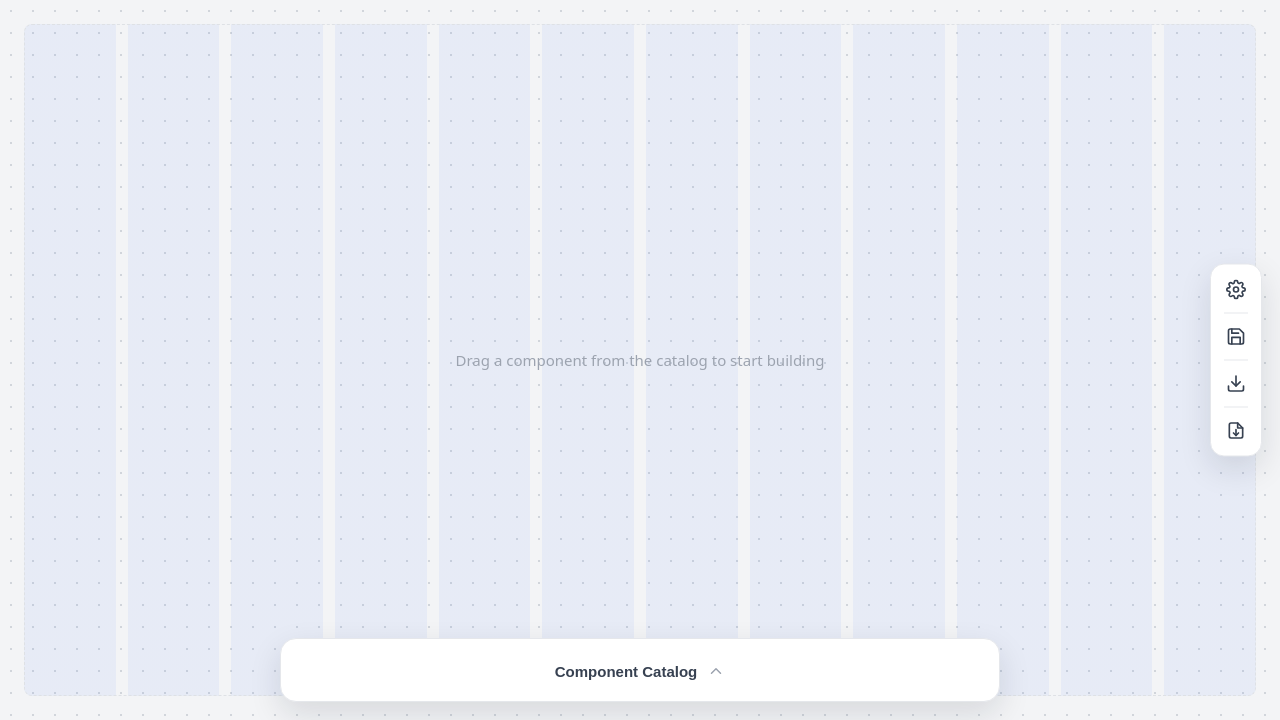
Test: MainPage › should save a dashboard and list it in the load dialog
Click the button named "Save dashboard": (1236, 336) [1217,318,1255,356]
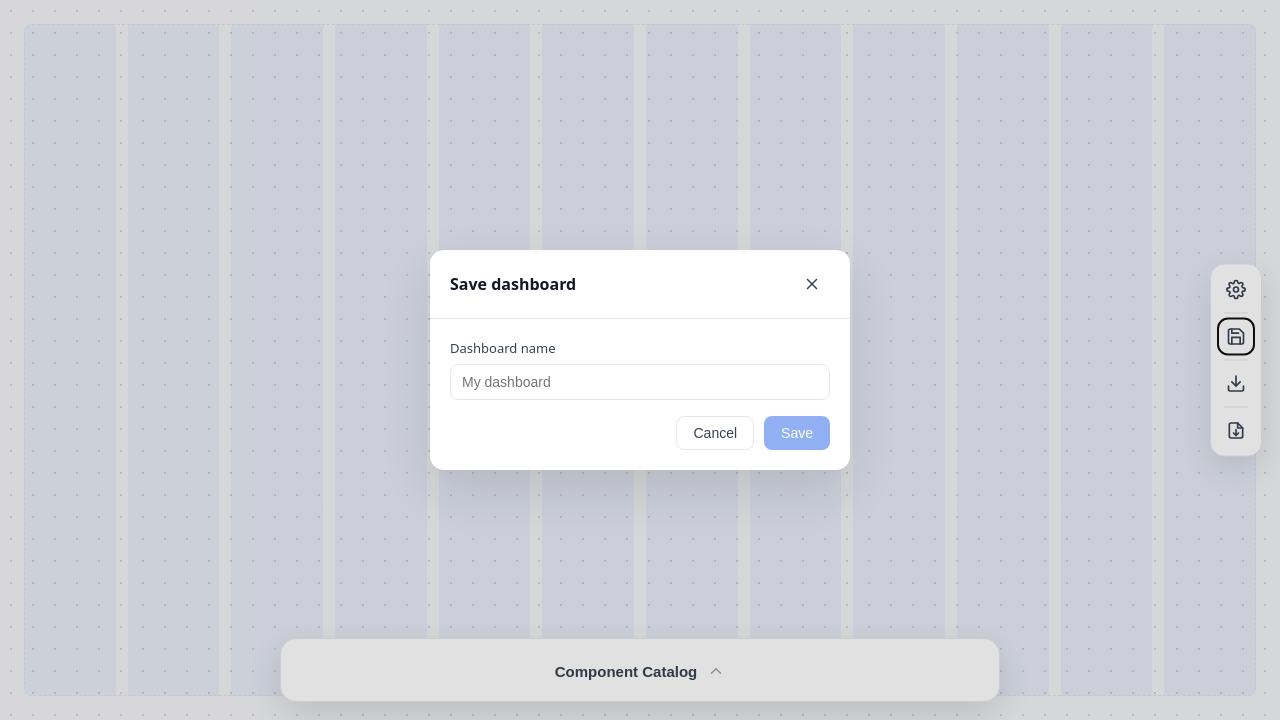
In the field labelled "Dashboard name": (640, 382) [450,364,830,400], type "Sales"
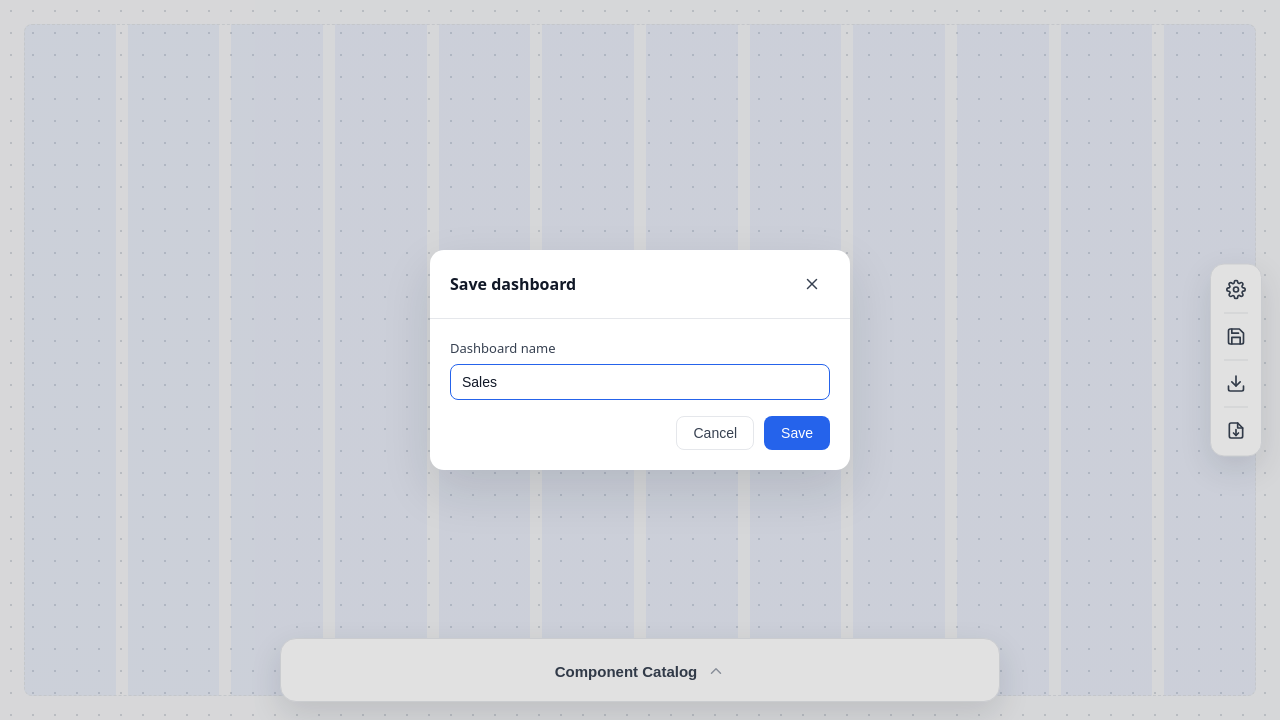
Click the button "Save": (797, 433) [764,416,830,450]
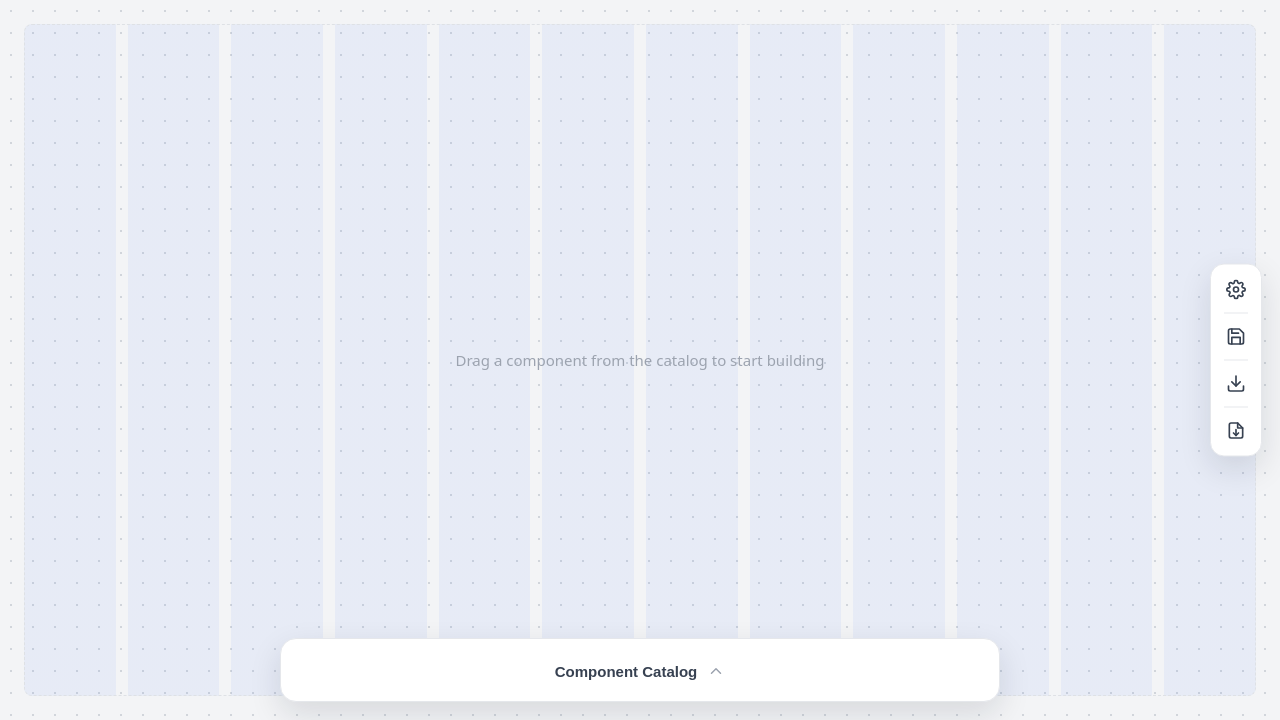
Click the button named "Load dashboard": (1236, 384) [1217,364,1255,402]
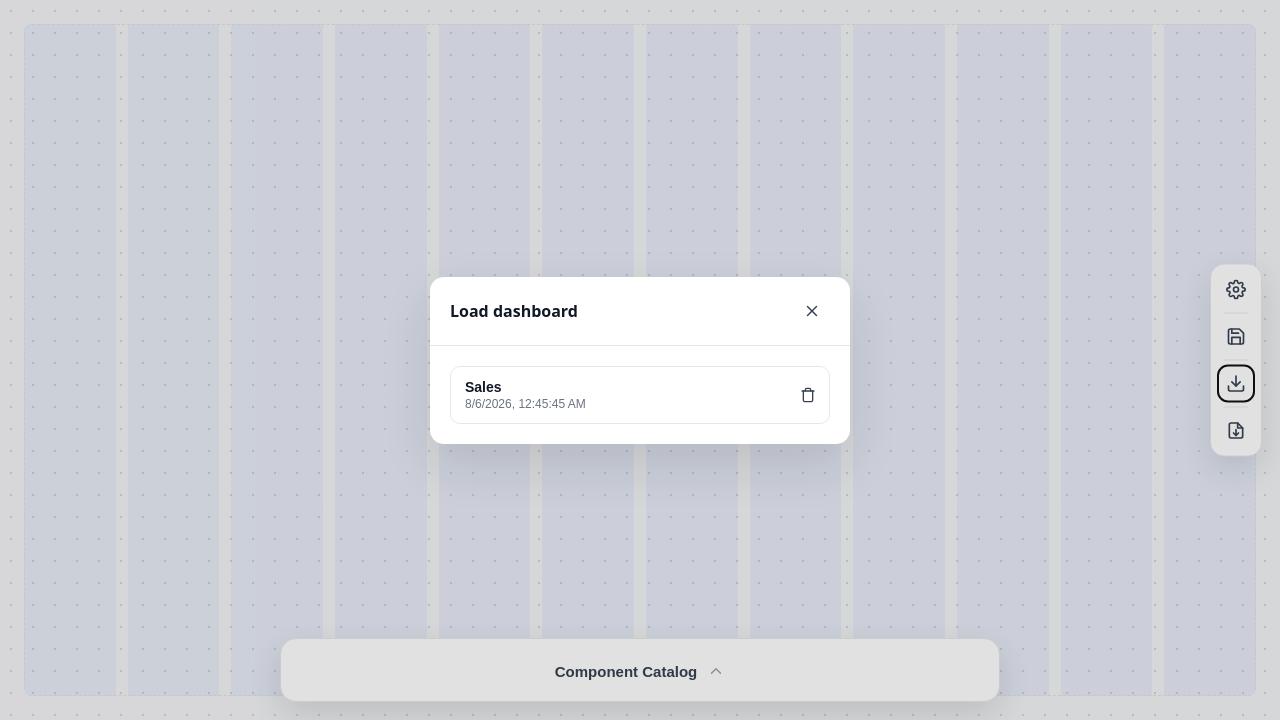
Expected: the text "Sales" is shown, [465,378,502,394]
